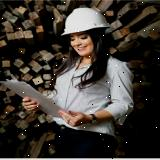Helmet: (60, 6, 112, 36)
